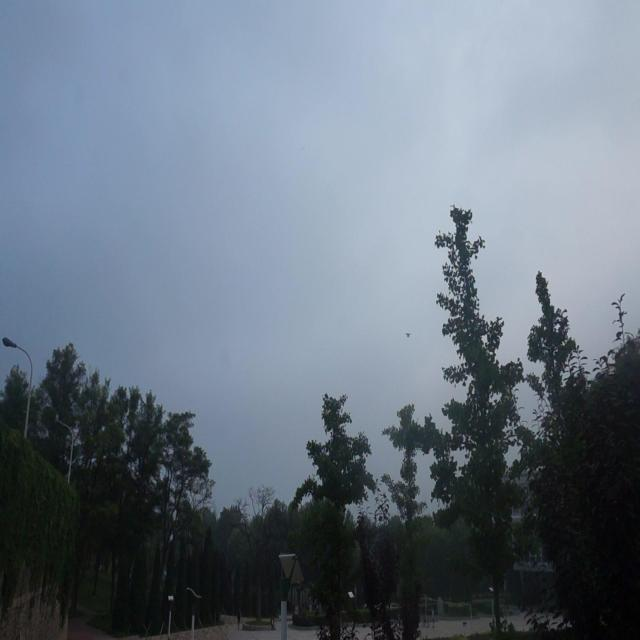drone: (402, 326, 415, 342)
